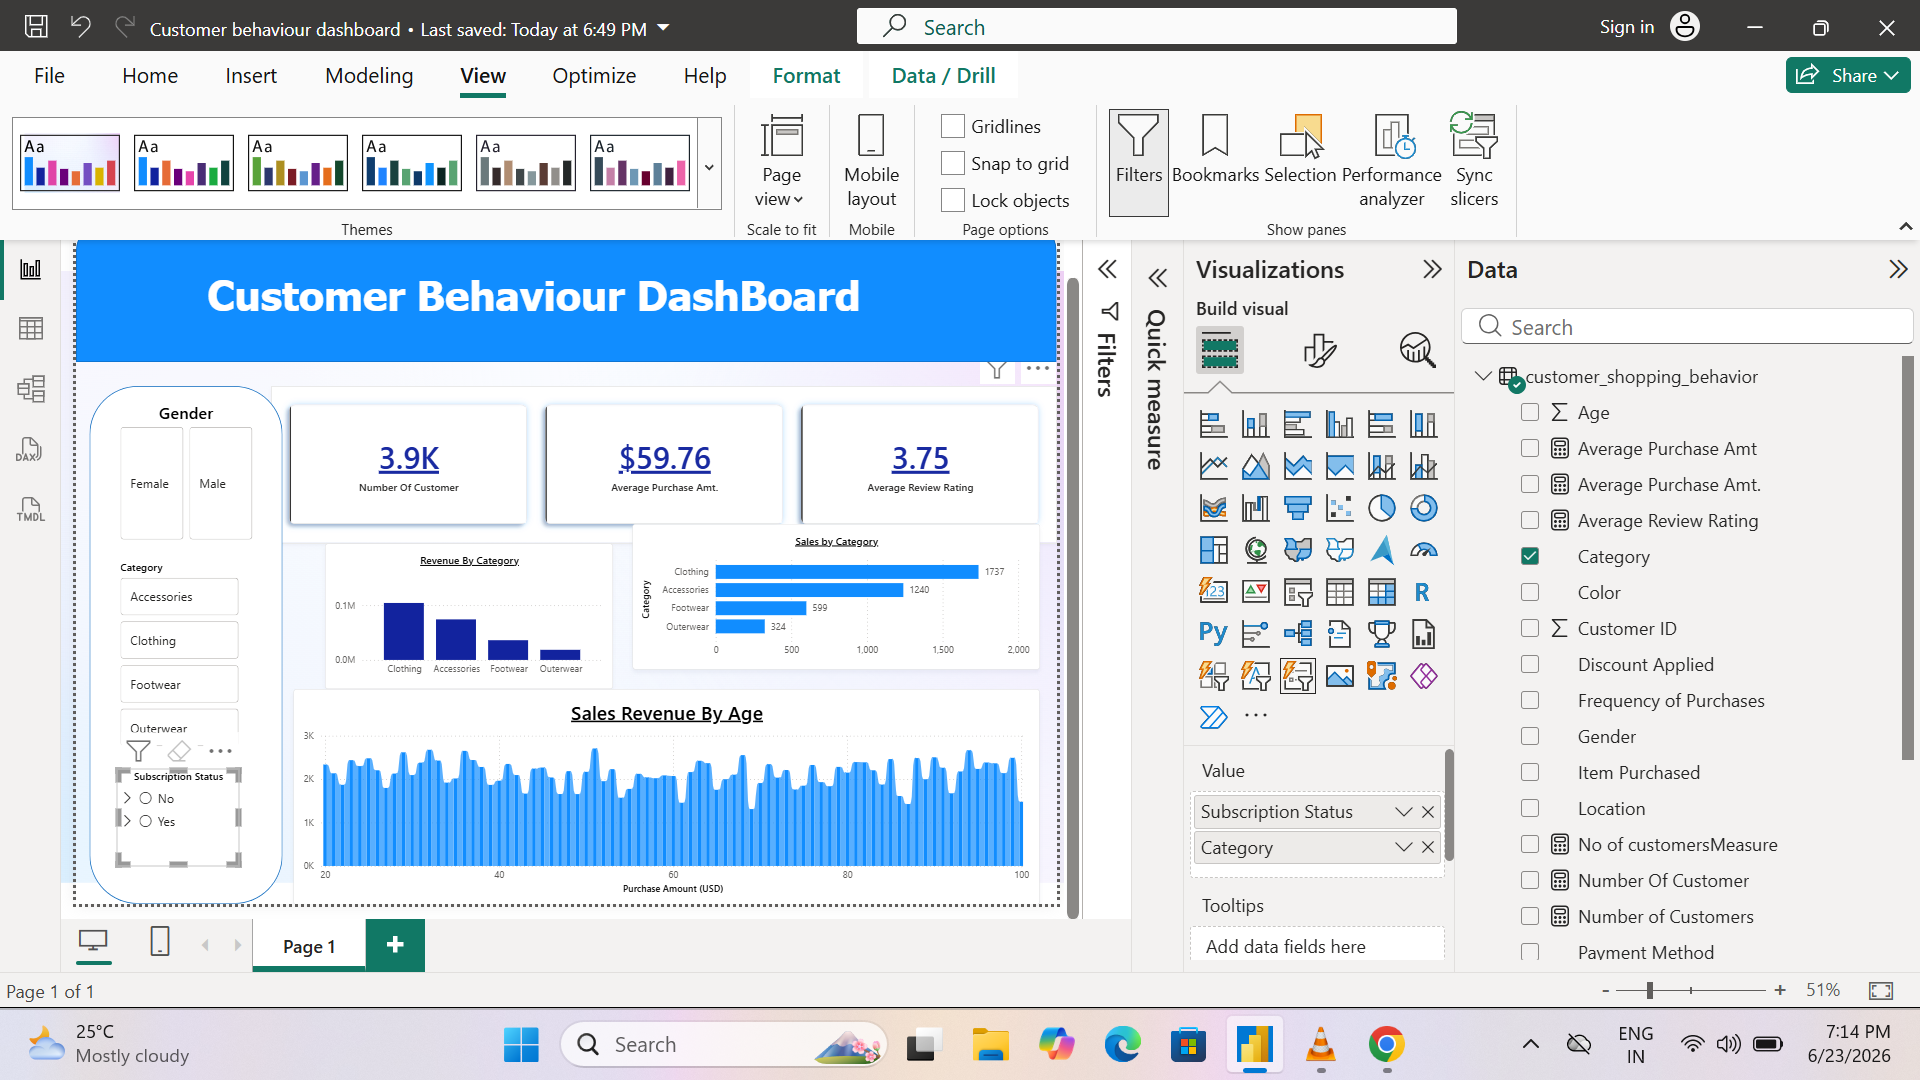

The page's visual inventory and layout, read from the dashboard file:
{"tool":"powerbi","page":{"name":"Page 1","canvas":[1280,900],"ordinal":0},"visuals":[{"type":"cardVisual","fields":{"Data":["customer_shopping_behavior.No Of Customer","customer_shopping_behavior.Average Purchase Amt.","customer_shopping_behavior.Average Review Rating"]},"box":[254,224,1026,204],"z":0},{"type":"shape","box":[0,0,1280,192],"z":1000},{"type":"textbox","box":[166,66,1016,92],"z":2000},{"type":"clusteredColumnChart","title":"Revenue By Category","fields":{"Category":["customer_shopping_behavior.Category"],"Y":["Sum(customer_shopping_behavior.Purchase Amount (USD))"]},"box":[326,428,376,190],"z":3000},{"type":"clusteredBarChart","title":"Sales by Category","fields":{"Category":["customer_shopping_behavior.Category"],"Y":["CountNonNull(customer_shopping_behavior.Customer ID)"]},"box":[726,404,532,190],"z":4000},{"type":"shape","box":[18,224,252,676],"z":5000},{"type":"advancedSlicerVisual","title":"Gender","fields":{"Values":["customer_shopping_behavior.Gender"]},"box":[52,242,182,186],"z":6000},{"type":"listSlicer","fields":{"Values":["customer_shopping_behavior.Subscription Status","customer_shopping_behavior.Category"]},"box":[52,722,162,128],"z":7000},{"type":"advancedSlicerVisual","fields":{"Values":["customer_shopping_behavior.Category"]},"box":[52,450,164,250],"z":8000},{"type":"ribbonChart","title":"Sales Revenue By Age","fields":{"Category":["customer_shopping_behavior.Purchase Amount (USD)"],"Y":["Sum(customer_shopping_behavior.Age)"]},"box":[284,618,974,282],"z":9000}]}

Visuals, with their boxes on the page's 1280x900 design canvas (x1, y1, x2, y2). These are canvas units, not pixel positions in the 1920x1080 screenshot, which may show the page scaled, cropped or inside an application window:
cardVisual - customer_shopping_behavior.No Of Customer x customer_shopping_behavior.Average Purchase Amt.: [x1=254, y1=224, x2=1280, y2=428]
shape: [x1=0, y1=0, x2=1280, y2=192]
textbox: [x1=166, y1=66, x2=1182, y2=158]
"Revenue By Category" clusteredColumnChart: [x1=326, y1=428, x2=702, y2=618]
"Sales by Category" clusteredBarChart: [x1=726, y1=404, x2=1258, y2=594]
shape: [x1=18, y1=224, x2=270, y2=900]
"Gender" advancedSlicerVisual: [x1=52, y1=242, x2=234, y2=428]
listSlicer - customer_shopping_behavior.Subscription Status x customer_shopping_behavior.Category: [x1=52, y1=722, x2=214, y2=850]
advancedSlicerVisual - customer_shopping_behavior.Category: [x1=52, y1=450, x2=216, y2=700]
"Sales Revenue By Age" ribbonChart: [x1=284, y1=618, x2=1258, y2=900]
